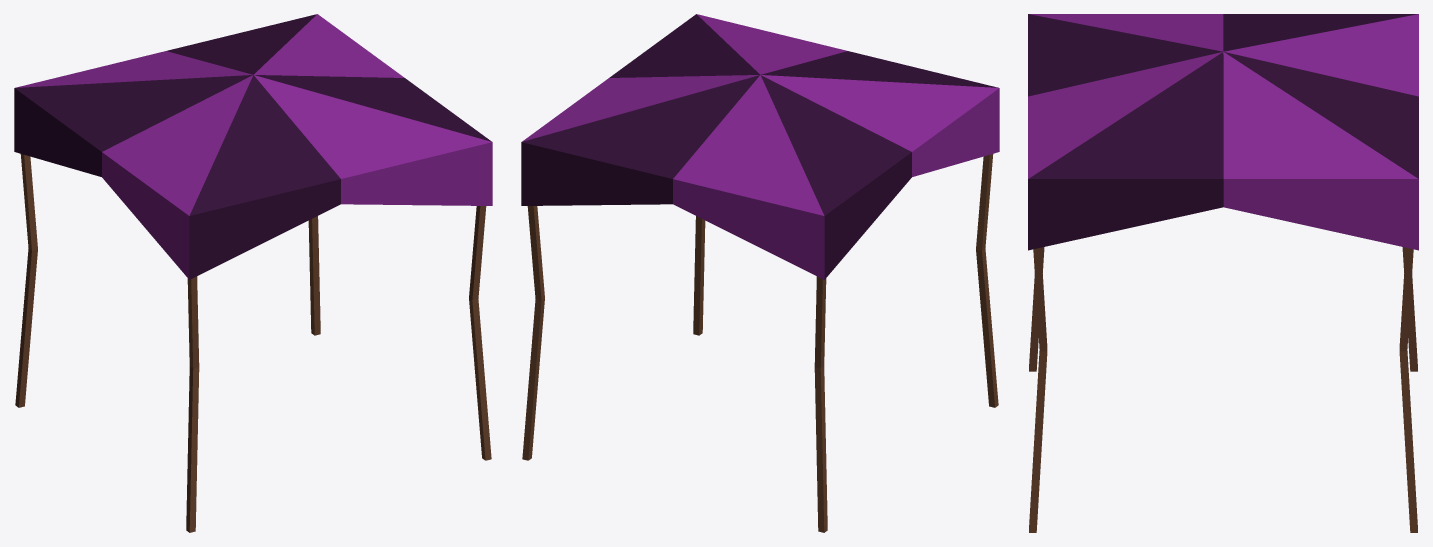
Rendered from Tent_7_Purple.fbx.
The picture shows the model from 3 angles, left to right: view 1: azimuth 30°, elevation 25°; view 2: azimuth 150°, elevation 25°; view 3: azimuth 270°, elevation 25°; orthographic projection. The views are drawn at different scales.
Parts seen in each view (by area): view 1: Tent_7_Purple; view 2: Tent_7_Purple; view 3: Tent_7_Purple.
Boxes of the visible parts, x1,y1,x2,y2 form: Tent_7_Purple: (14,14,492,532); Tent_7_Purple: (521,14,999,532); Tent_7_Purple: (1028,14,1418,532).
Size of the model in its own units: 500 by 563 by 500.
